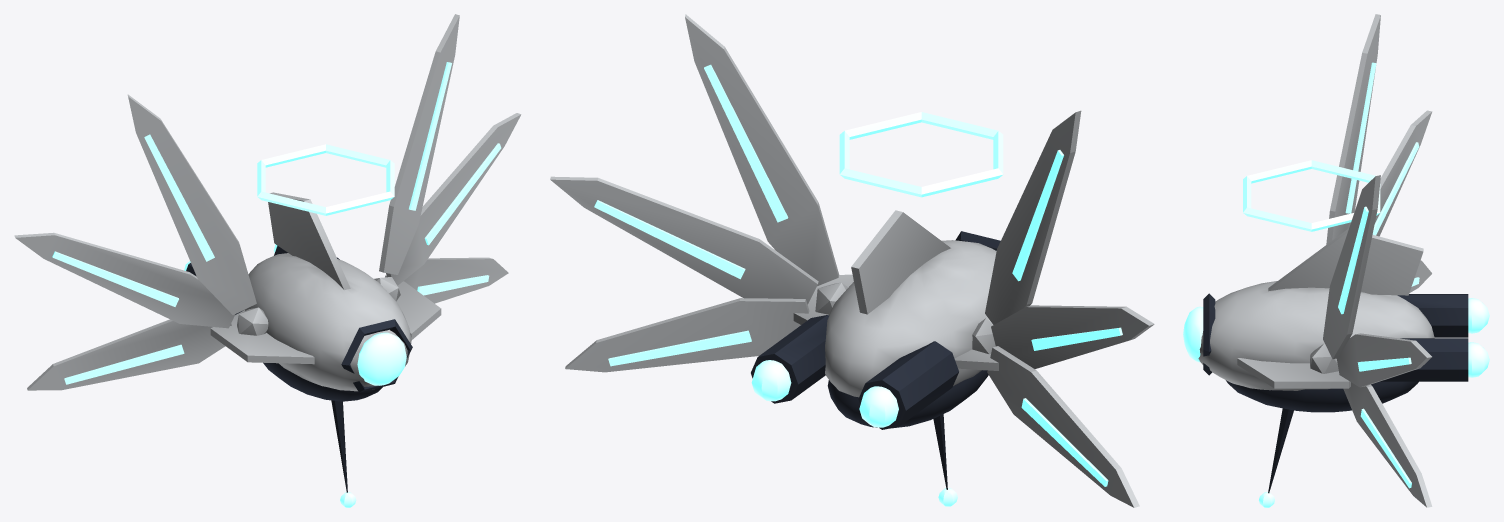
Rendered from mech_drone.glb.
3 views of the same model, side by side, from view 1: azimuth 30°, elevation 25°; view 2: azimuth 150°, elevation 25°; view 3: azimuth 270°, elevation 25° (orthographic). The views are drawn at different scales.
Parts seen in each view (by area): view 1: wing_L_a, body, wing_R_a, spin_y_halo; view 2: wing_R_a, body, wing_L_a, spin_y_halo; view 3: body, wing_R_a, wing_L_a, spin_y_halo.
Part boxes in pixels (left/top/right/bottom): wing_L_a: left=14, top=94, right=268, bottom=390; body: left=184, top=192, right=441, bottom=507; wing_R_a: left=374, top=14, right=521, bottom=303; spin_y_halo: left=257, top=144, right=394, bottom=215; wing_R_a: left=550, top=14, right=848, bottom=372; body: left=751, top=210, right=1000, bottom=506; wing_L_a: left=972, top=110, right=1154, bottom=507; spin_y_halo: left=839, top=112, right=1003, bottom=197; body: left=1183, top=228, right=1489, bottom=507; wing_R_a: left=1310, top=175, right=1432, bottom=507; wing_L_a: left=1326, top=14, right=1432, bottom=292; spin_y_halo: left=1243, top=160, right=1380, bottom=231.
Size of the model in its own units: 1.57 by 1.22 by 0.823.
